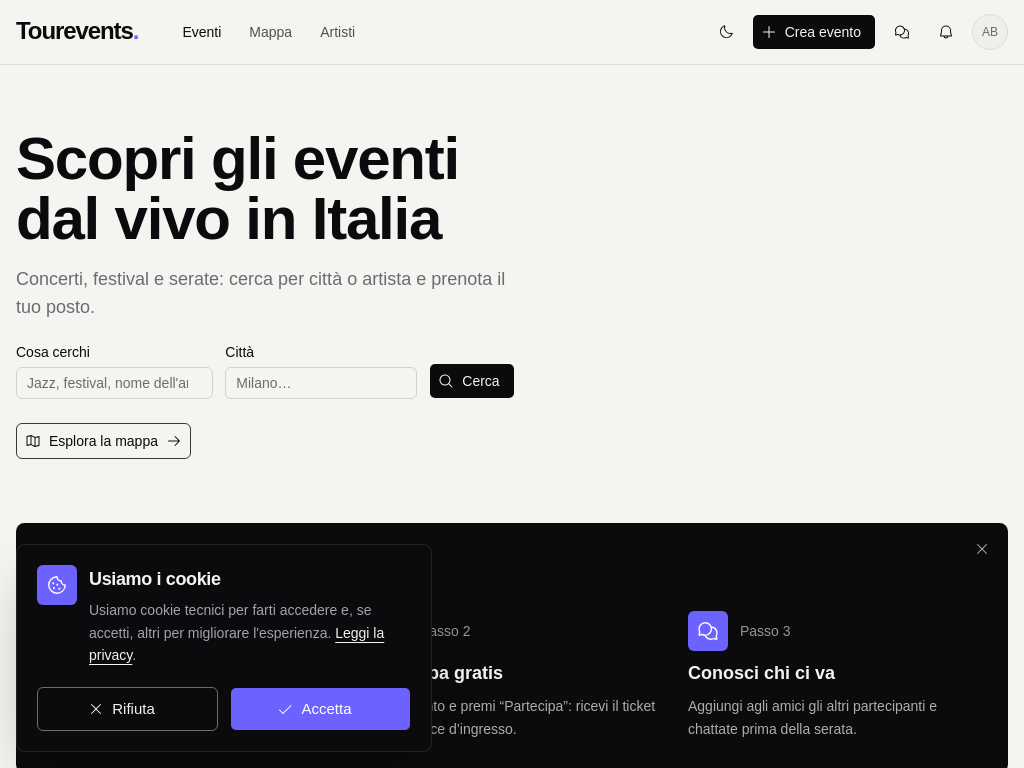
Test: guardie e layout › logout: chiama il backend con CSRF e torna anonimi
Click the button with aria-label "Menu di Anna Bianchi" at (990, 32), box [972,14,1008,50]
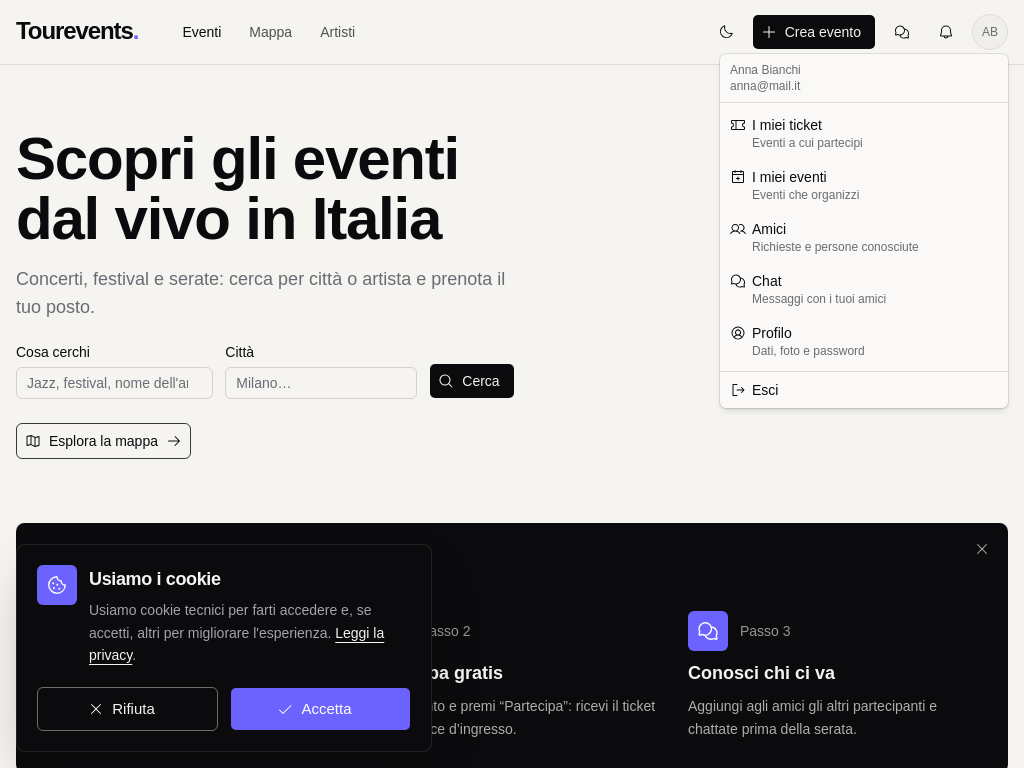
Click the menu item "Esci" at (754, 390), box [730,382,778,398]
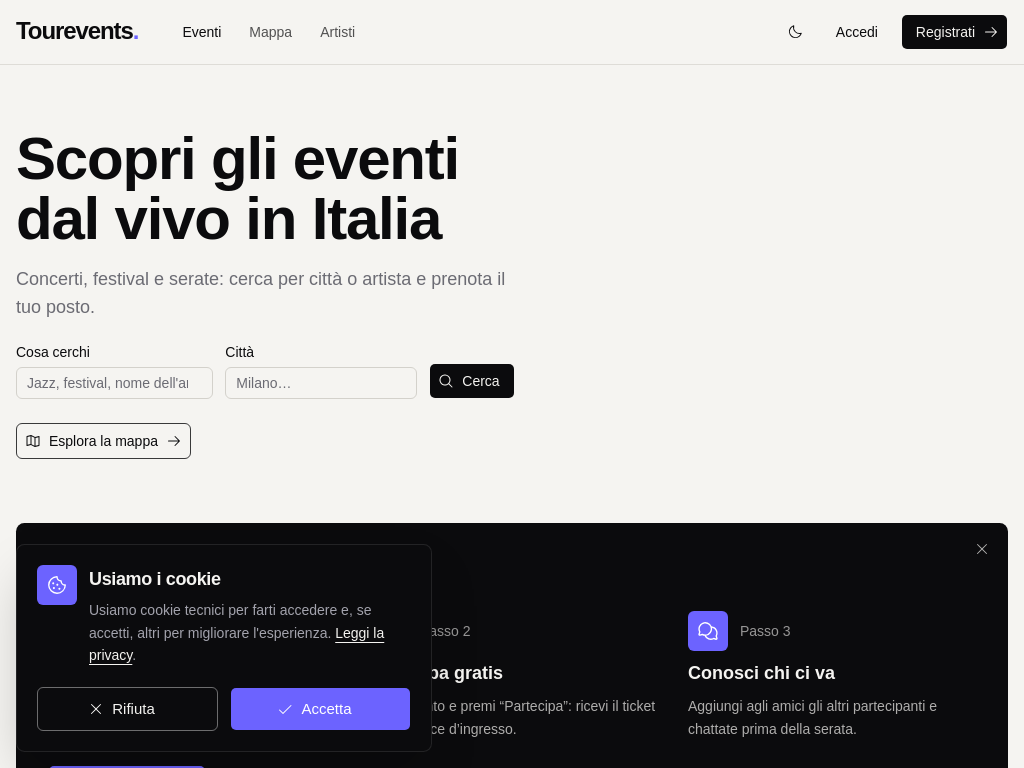
Expected: the link "Accedi" is shown, [836,24,878,40]
